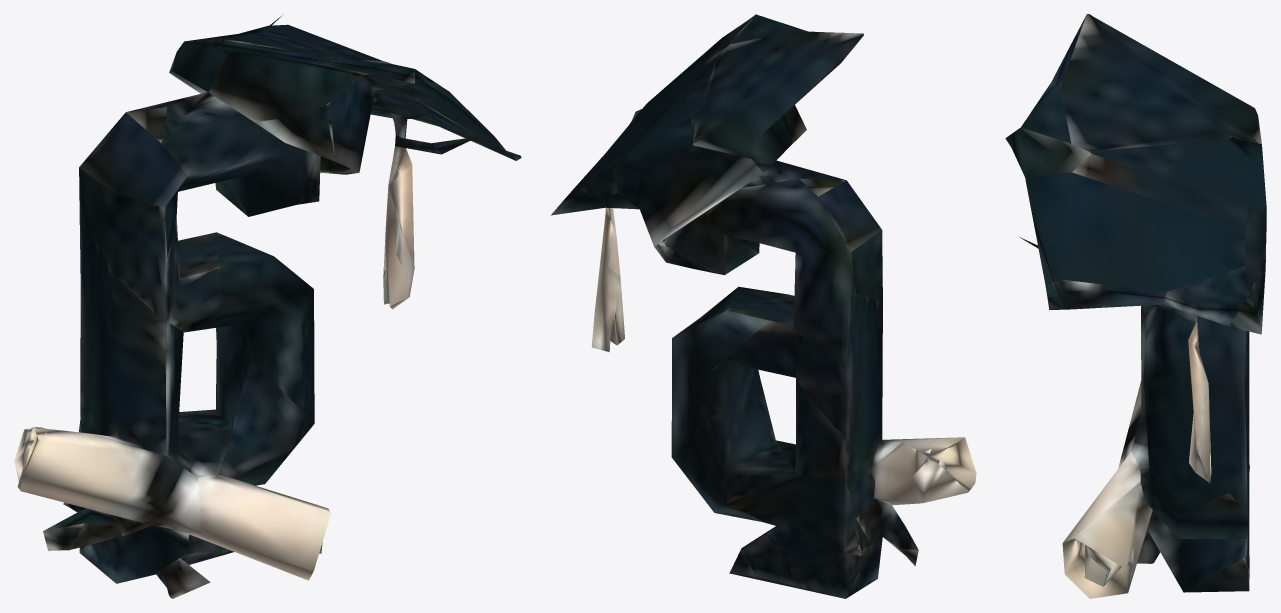
3 renders of one model, left to right at view 1: azimuth 30°, elevation 25°; view 2: azimuth 150°, elevation 25°; view 3: azimuth 270°, elevation 25°, orthographic. The views are drawn at different scales.
Parts seen in each view (by area): view 1: Graduation-6; view 2: Graduation-6; view 3: Graduation-6.
Part boxes in pixels (<box>): Graduation-6: <box>14,14,521,598</box>; Graduation-6: <box>550,14,976,598</box>; Graduation-6: <box>1005,14,1266,598</box>.
Size of the model in its own units: 0.2338 by 0.2925 by 0.1237.
1 material, 1 textured.
